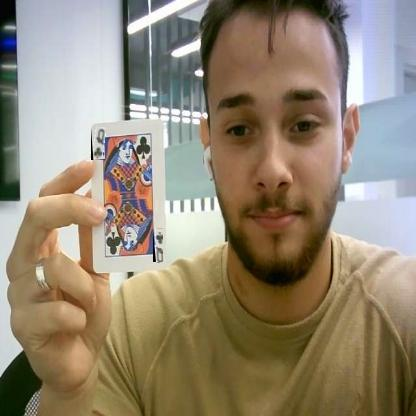QC: (91, 127, 105, 160), (153, 228, 163, 262)
